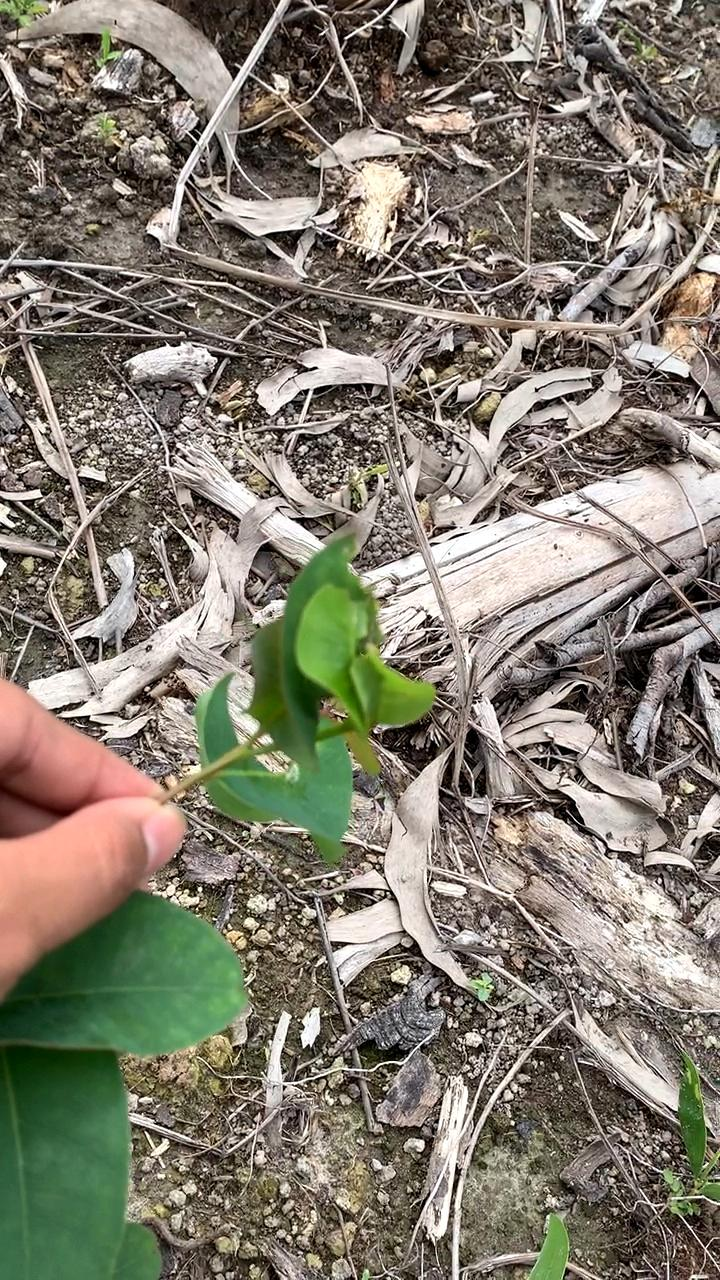Leaf Roller - Leaf: (253, 518, 427, 847)
